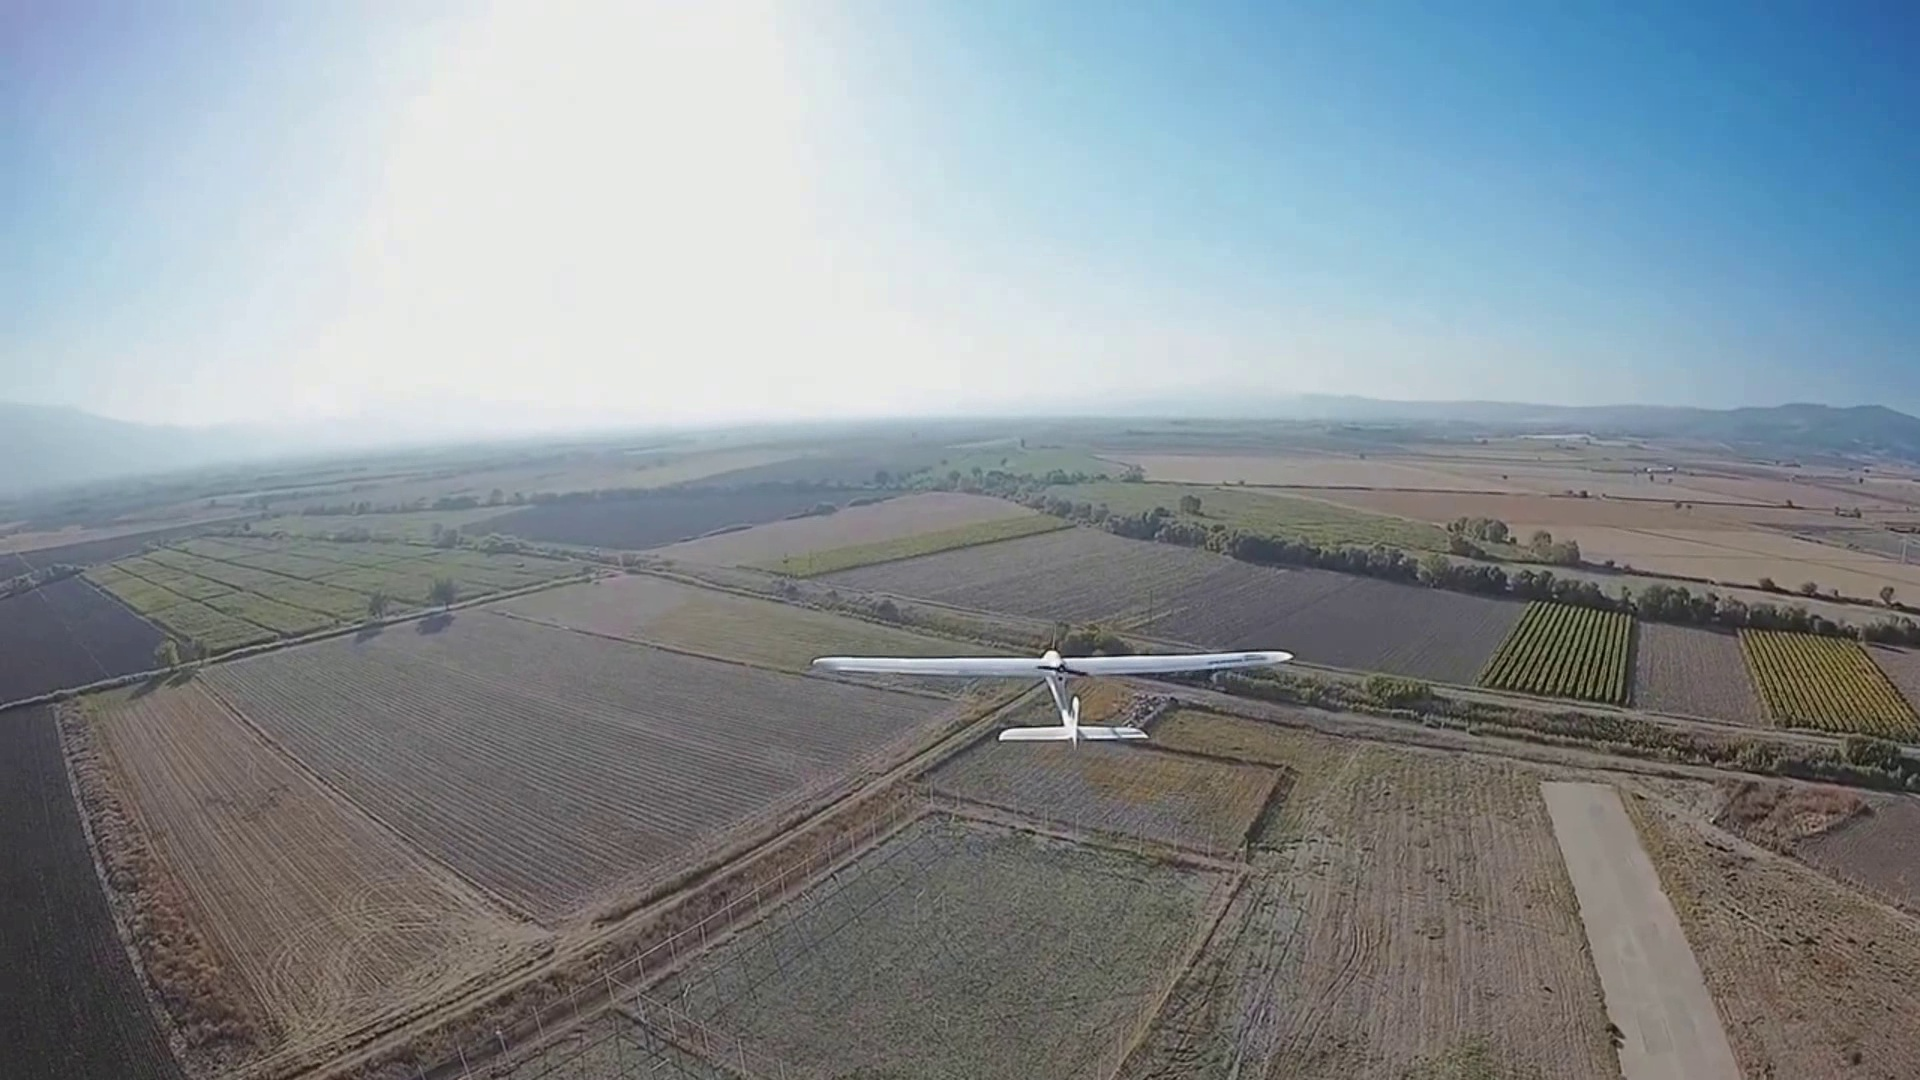airplane: (808, 640, 1294, 746)
